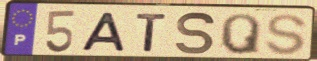5: (44, 10, 77, 54)
A: (79, 11, 128, 54)
Q: (219, 12, 262, 56)
S: (174, 10, 218, 57), (264, 12, 309, 57)
T: (134, 12, 170, 53)
